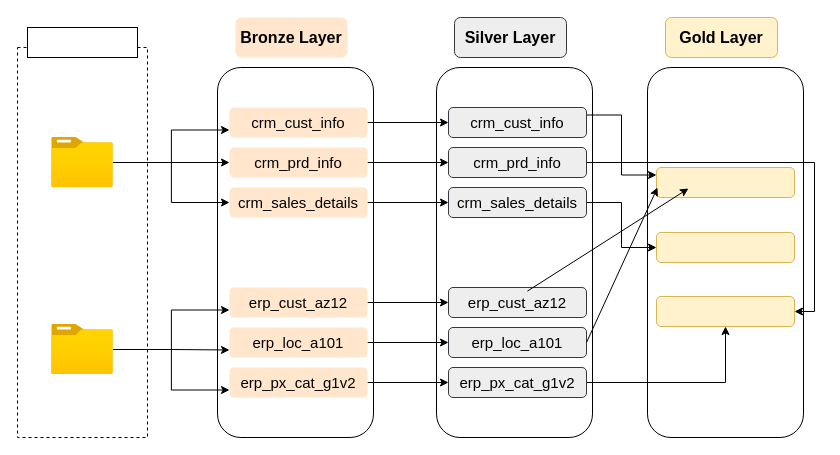
Image size: 840x455. Some labels were removed from this diagram. The shapes that lost their labels are listed below. From the top down, each one's box as (x1, y1, x2, y2) in pixels, then its label:
(26, 26, 138, 58): Source
(51, 137, 113, 187): CRM
(656, 166, 794, 198): dim_customers
(656, 232, 794, 262): fact_sales
(656, 296, 794, 326): dim_product
(51, 324, 113, 374): ERP
